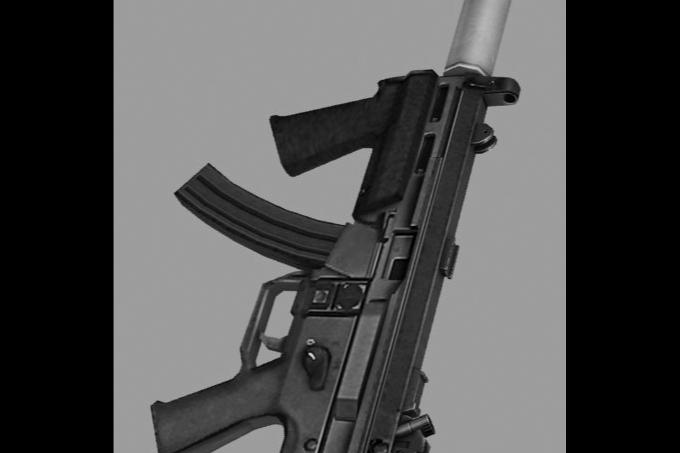gun: (146, 0, 534, 453)
